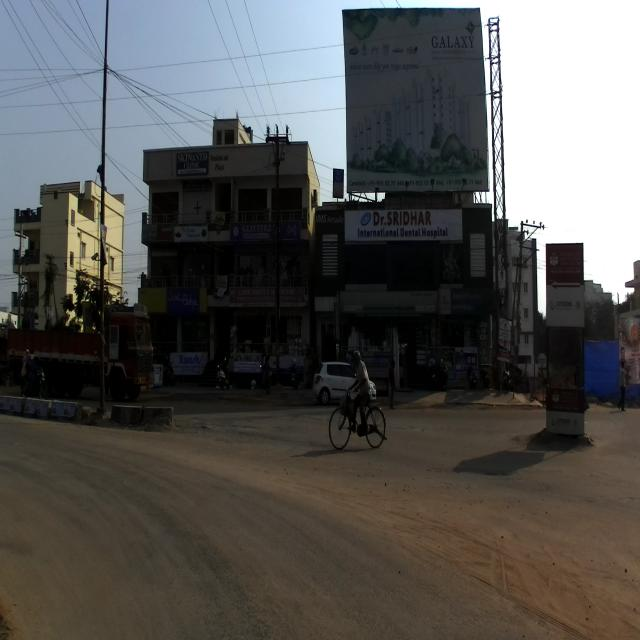bicycle ahead at: (326, 384, 390, 462)
truck ahead at: (7, 285, 160, 398)
